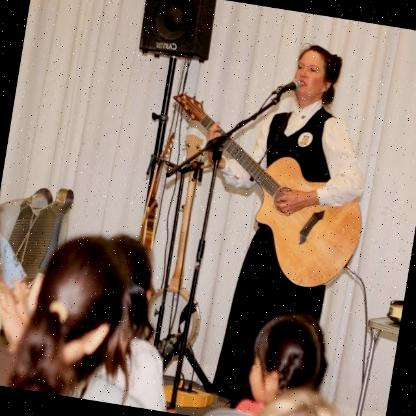acousticguitar: (173, 92, 361, 288)
